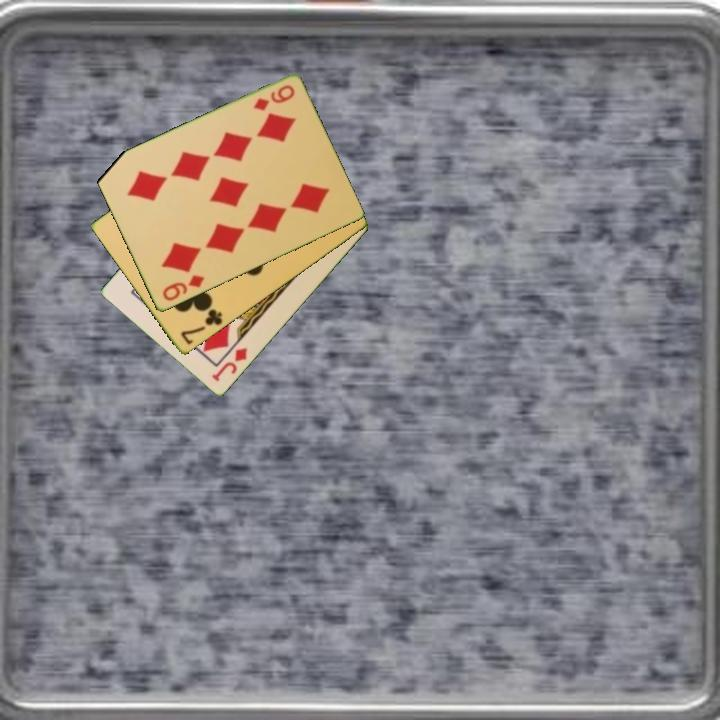7c: (177, 305, 225, 348)
9d: (159, 271, 208, 304), (250, 82, 298, 114)
Jd: (208, 344, 250, 385)
